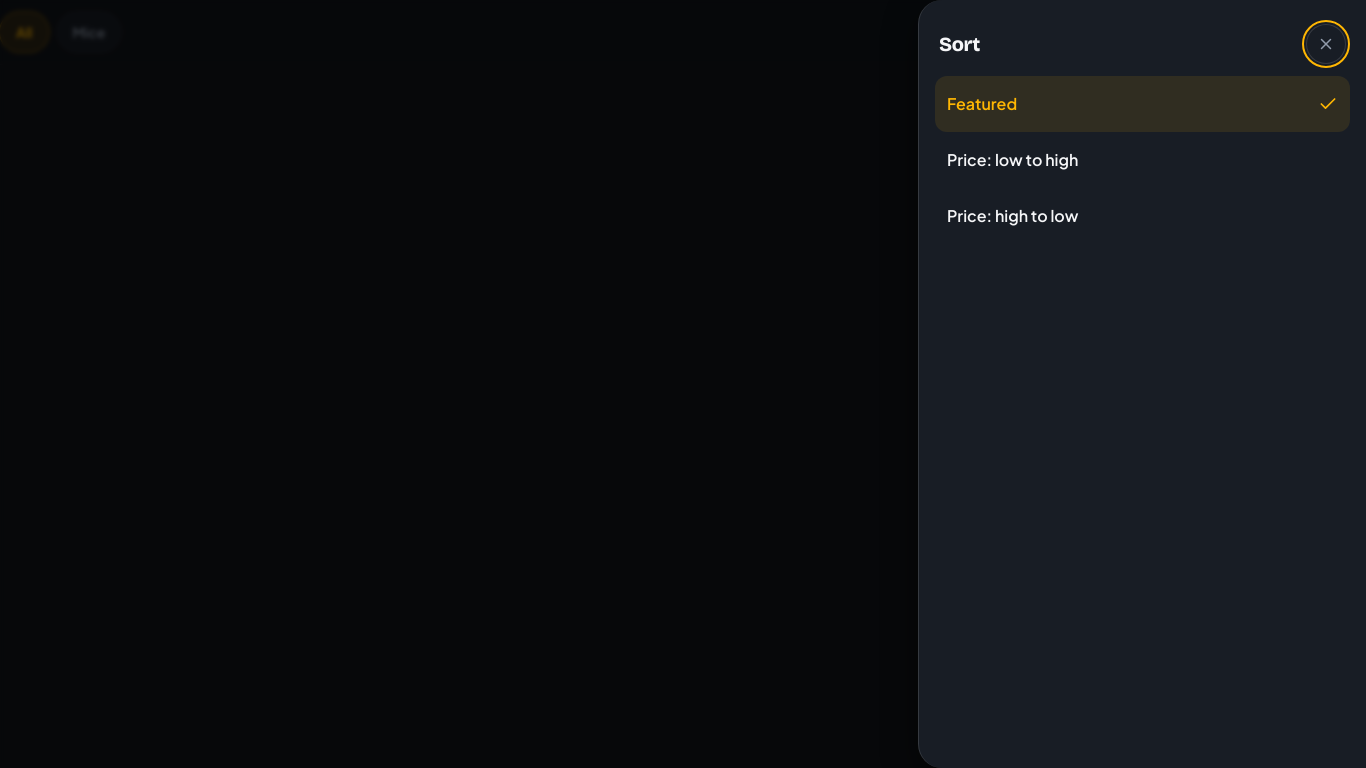
Test: sorting on a phone › sorts and closes the sheet when an option is chosen
Earlier steps of the test are not shown.
Click the radio button labelled "Price: high to low". click: [1013, 216]
box: [935,188,1350,244]
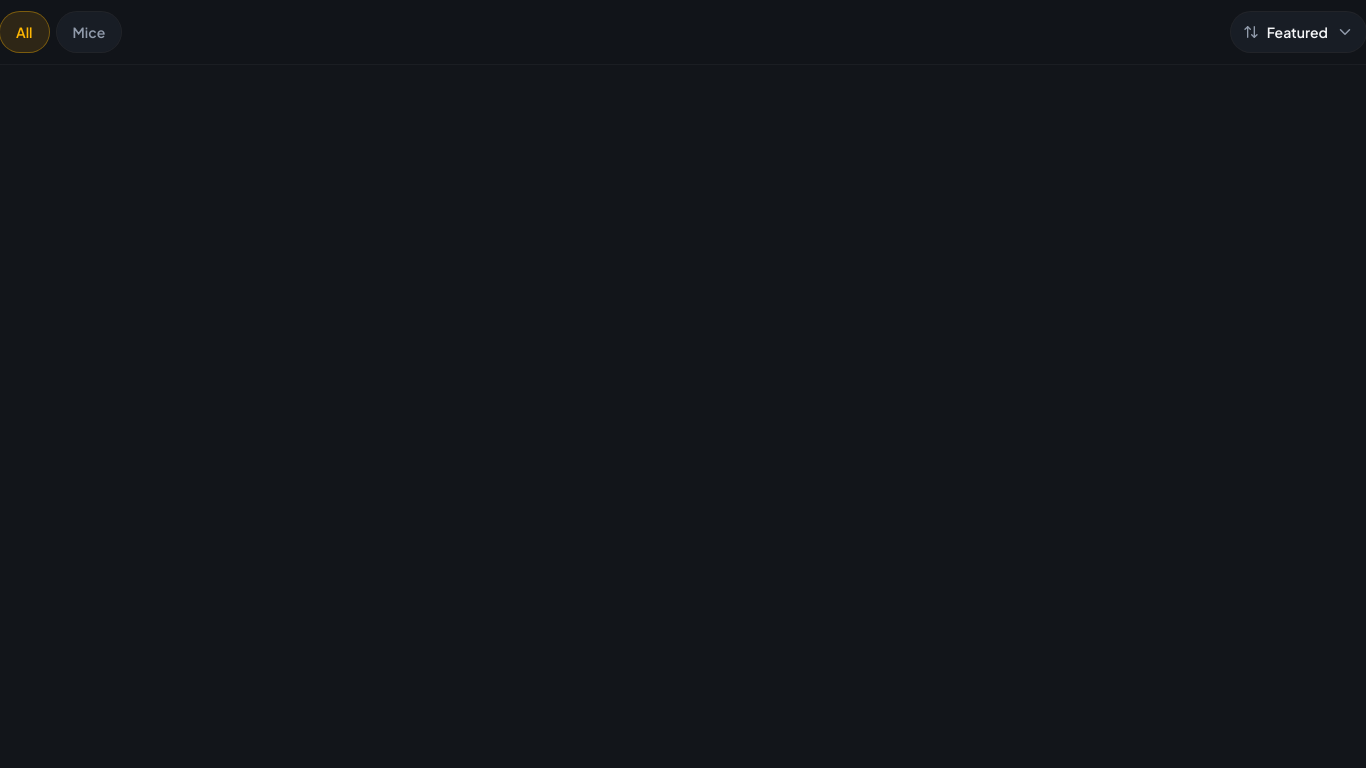
Expected: the dialog is gone
